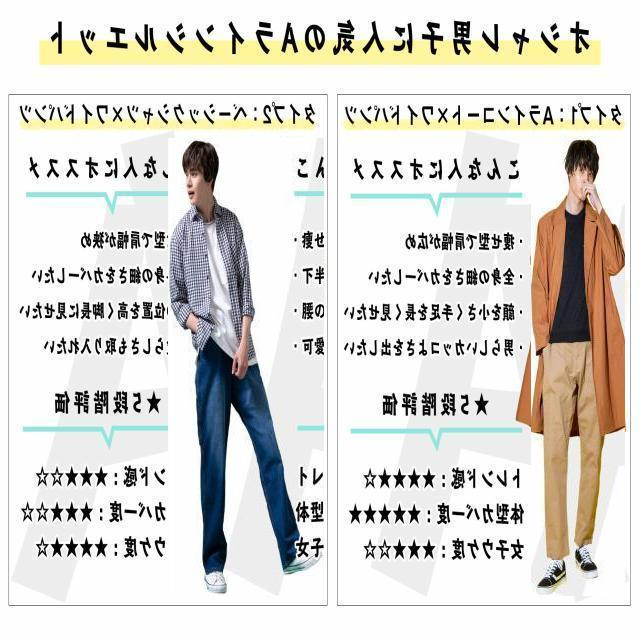direk: (168, 138, 324, 596), (531, 136, 625, 596)
